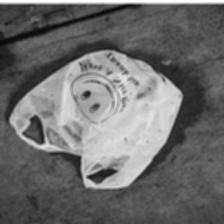plastic_bag: (4, 46, 185, 192)
